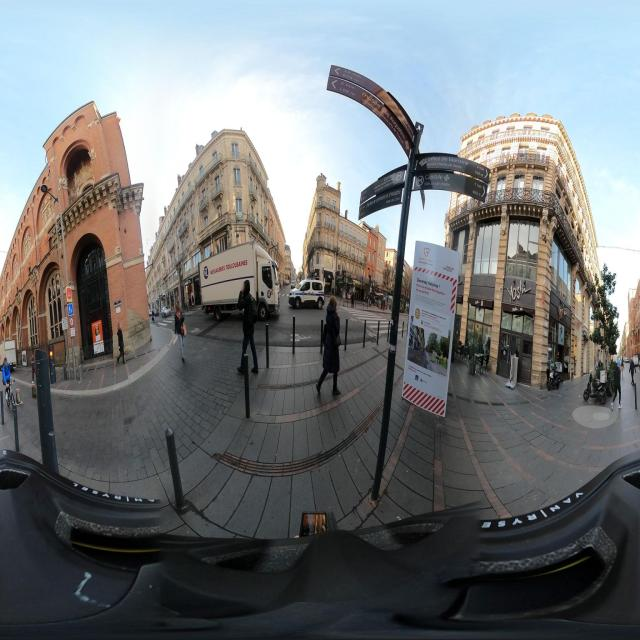bike: (583, 365, 608, 404)
car: (200, 238, 280, 323), (288, 278, 325, 310), (161, 303, 170, 317)
